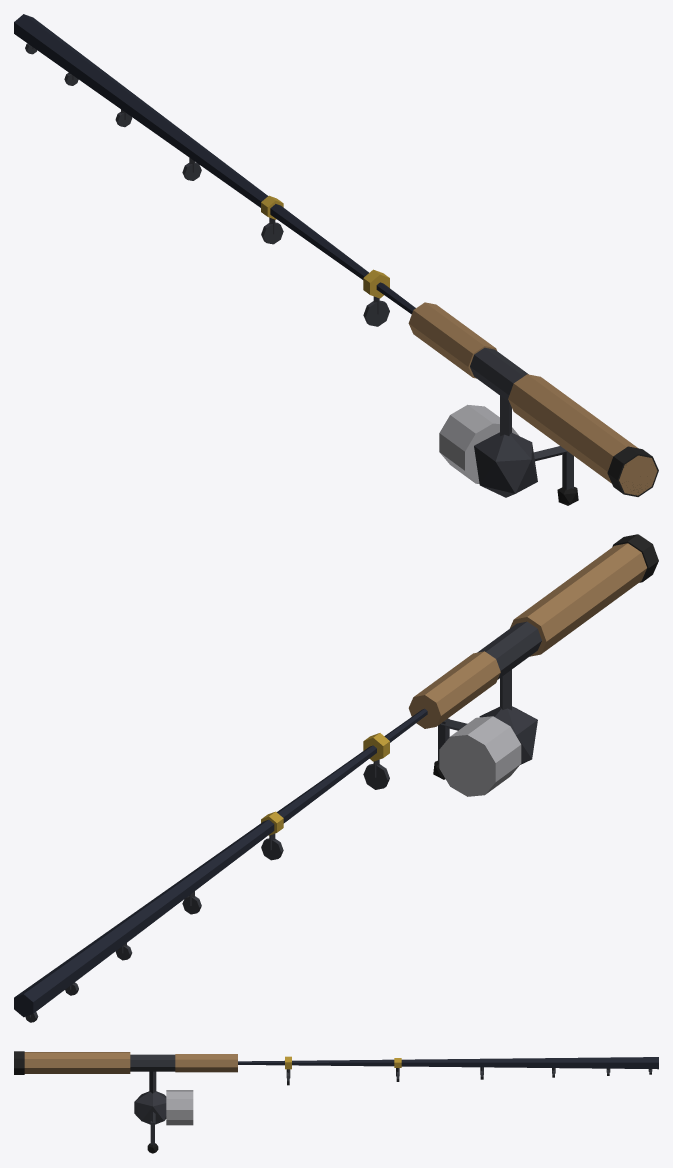
The model's file is GraphiteRod.glb.
The picture shows the model from 3 angles, top to bottom: view 1: azimuth 30°, elevation 25°; view 2: azimuth 150°, elevation 25°; view 3: azimuth 270°, elevation 25°; orthographic projection. The views are drawn at different scales.
Visible parts, largest first — view 1: GraphiteRod; view 2: GraphiteRod; view 3: GraphiteRod.
Part boxes in pixels (box(x1,y1,x2,y2)): GraphiteRod: box(14, 14, 658, 505); GraphiteRod: box(14, 534, 658, 1022); GraphiteRod: box(14, 1051, 658, 1153).
Size of the model in its own units: 0.6728 by 1.06 by 7.2.
